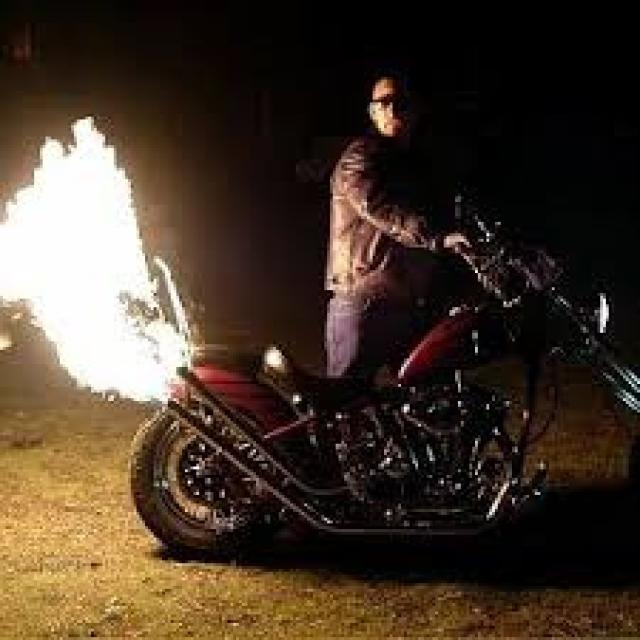fire: (0, 113, 193, 412)
